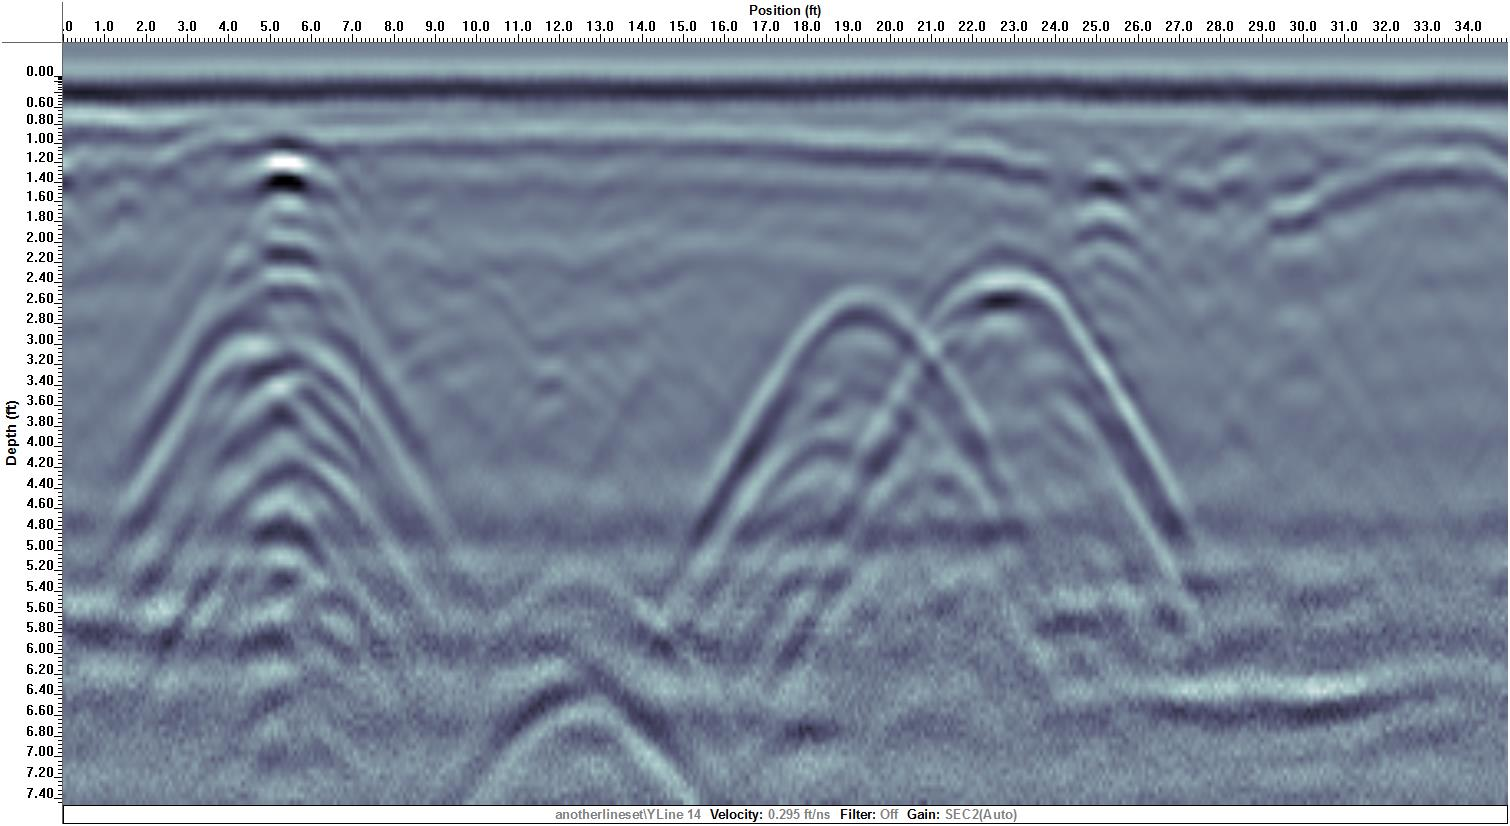hyperbola: (857, 242, 1177, 514), (675, 287, 993, 535)
